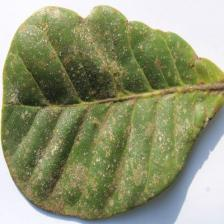red rust: (0, 4, 223, 220)
